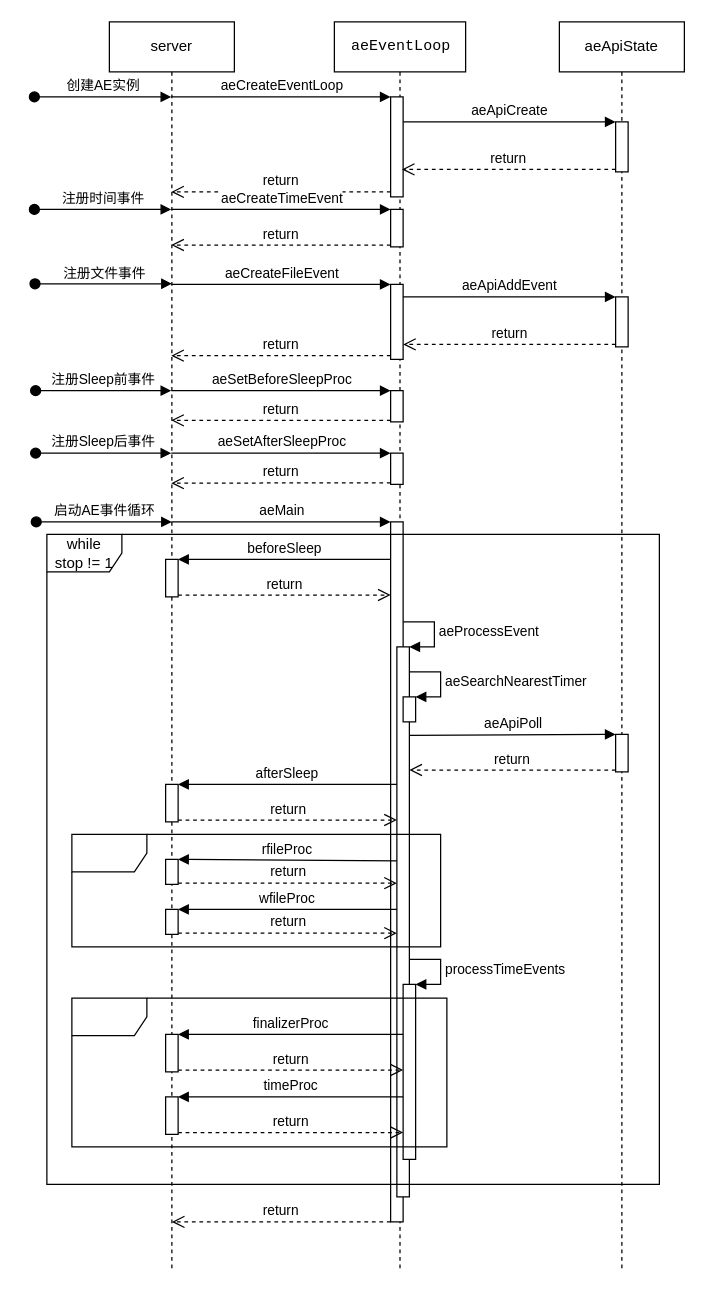
Some shapes in this 706 by 1294 pixel diagram are drawn without their labels. Each missing label, with the centre of its shape:
"for every file event" goes at point (256, 890).
"for every time event" goes at point (259, 1072).
